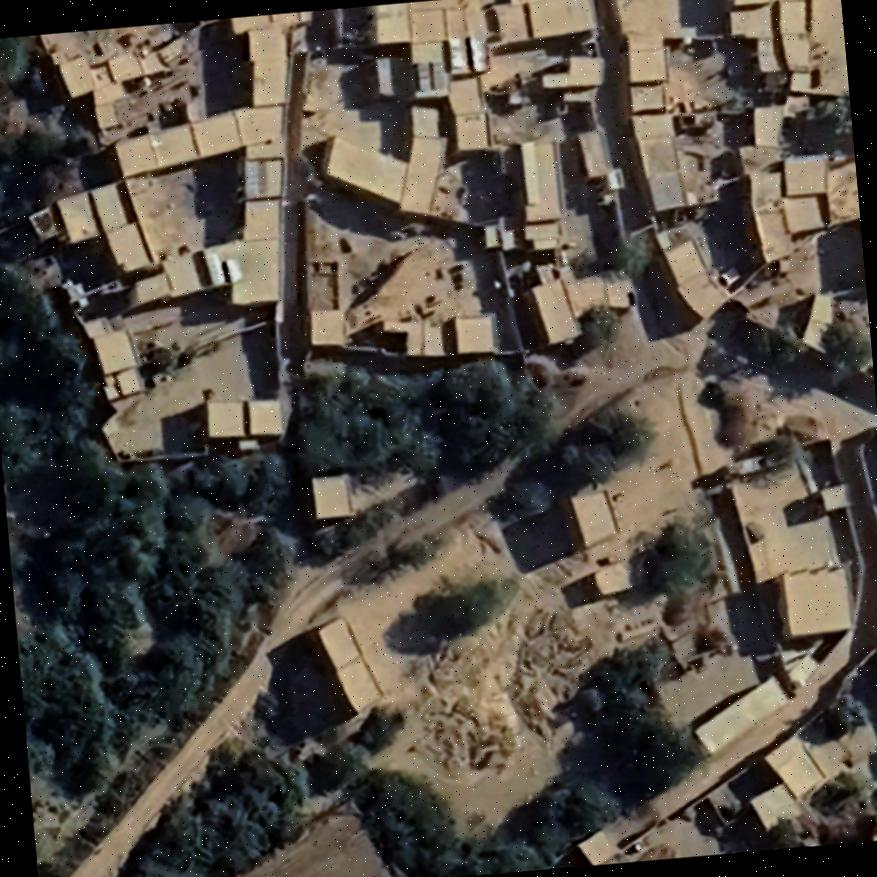Solarpanel: (443, 34, 493, 79), (199, 246, 244, 288), (236, 152, 265, 202)
